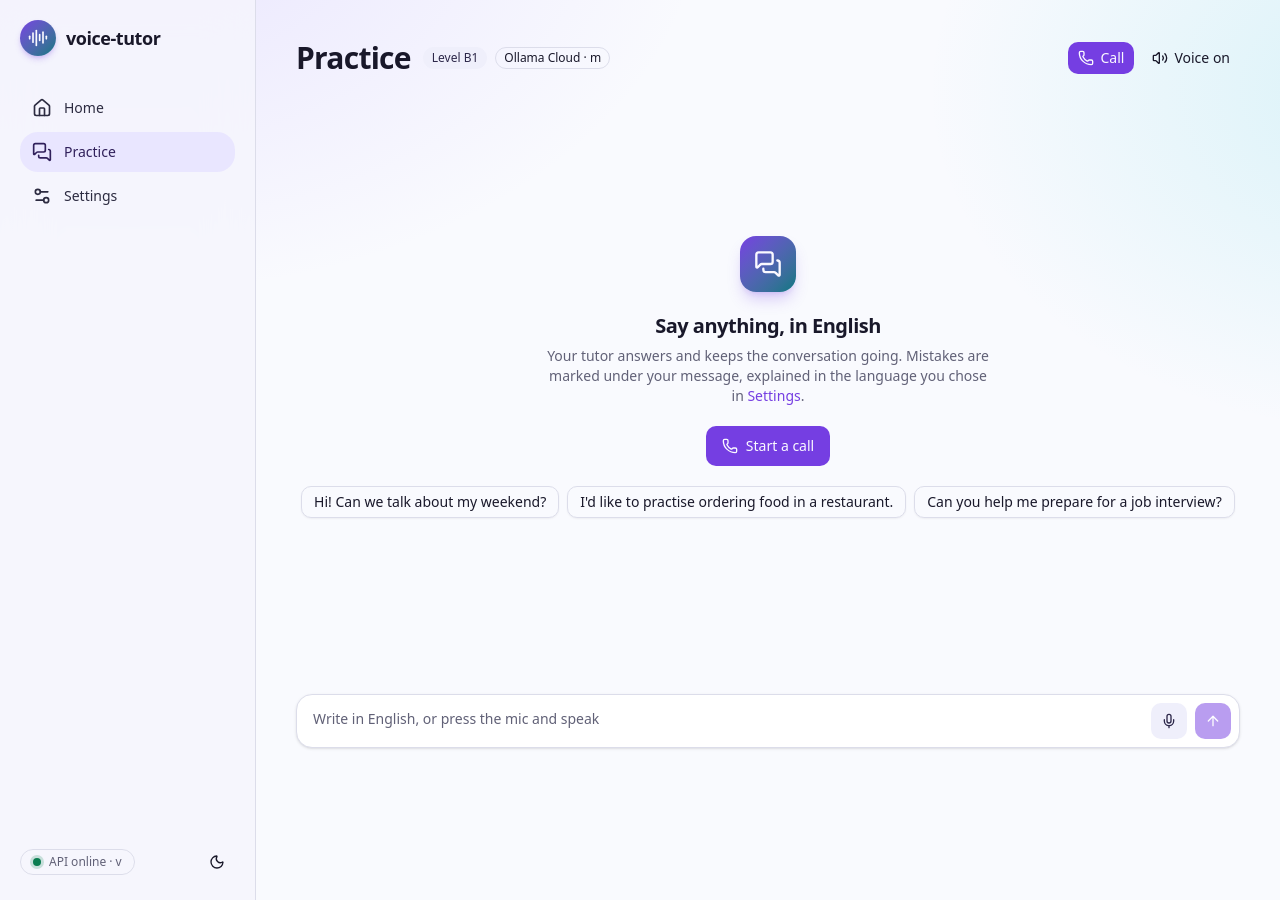
Test: Call mode › takes over the microphone from push-to-talk
The image size is (1280, 900).
Expected: the heading "Practice" is shown, left=296, top=40, right=411, bottom=76
Click the button named "Speak" at point(1169, 721), box left=1151, top=703, right=1187, bottom=739
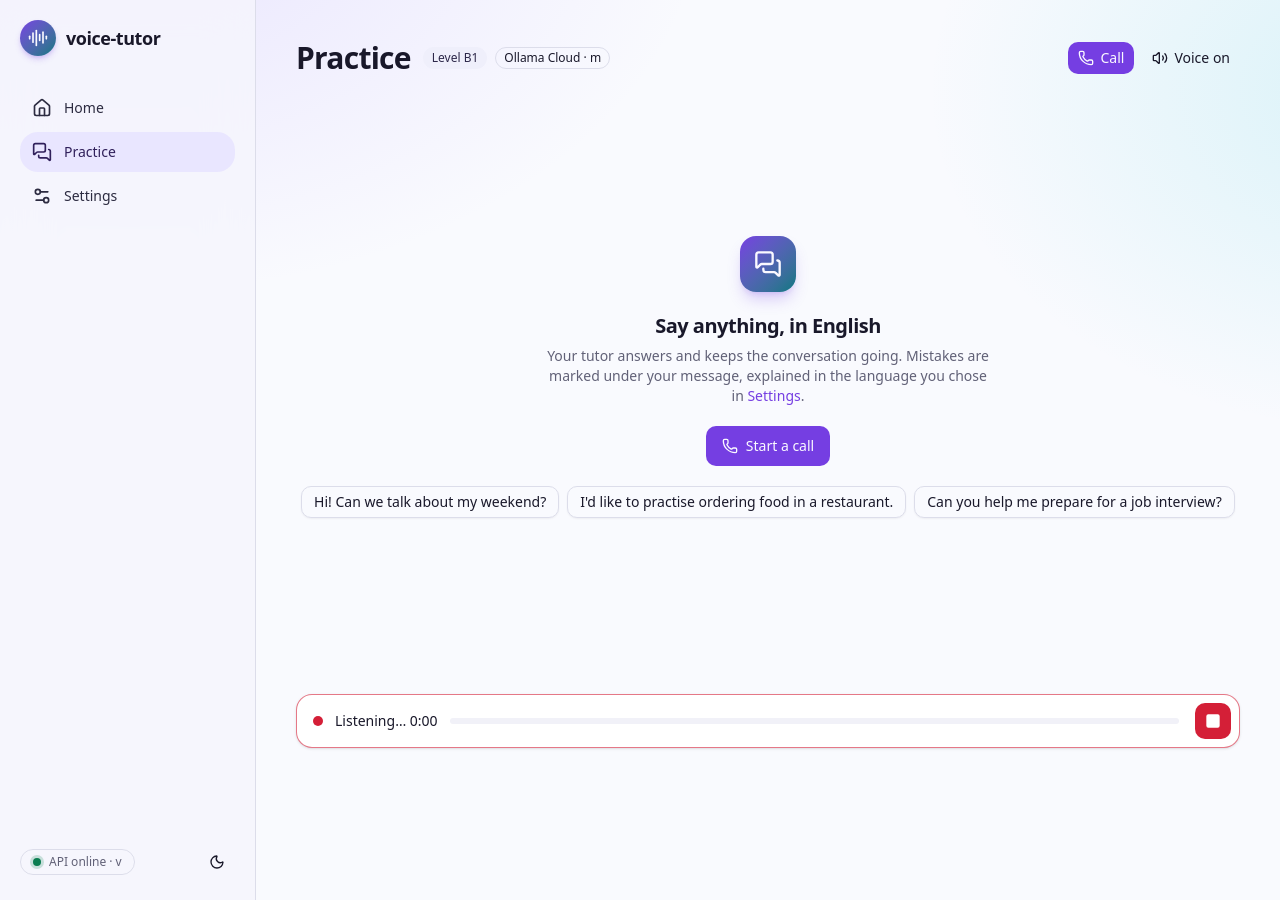
Click the button "Call" at point(1101, 58), box left=1068, top=42, right=1134, bottom=74
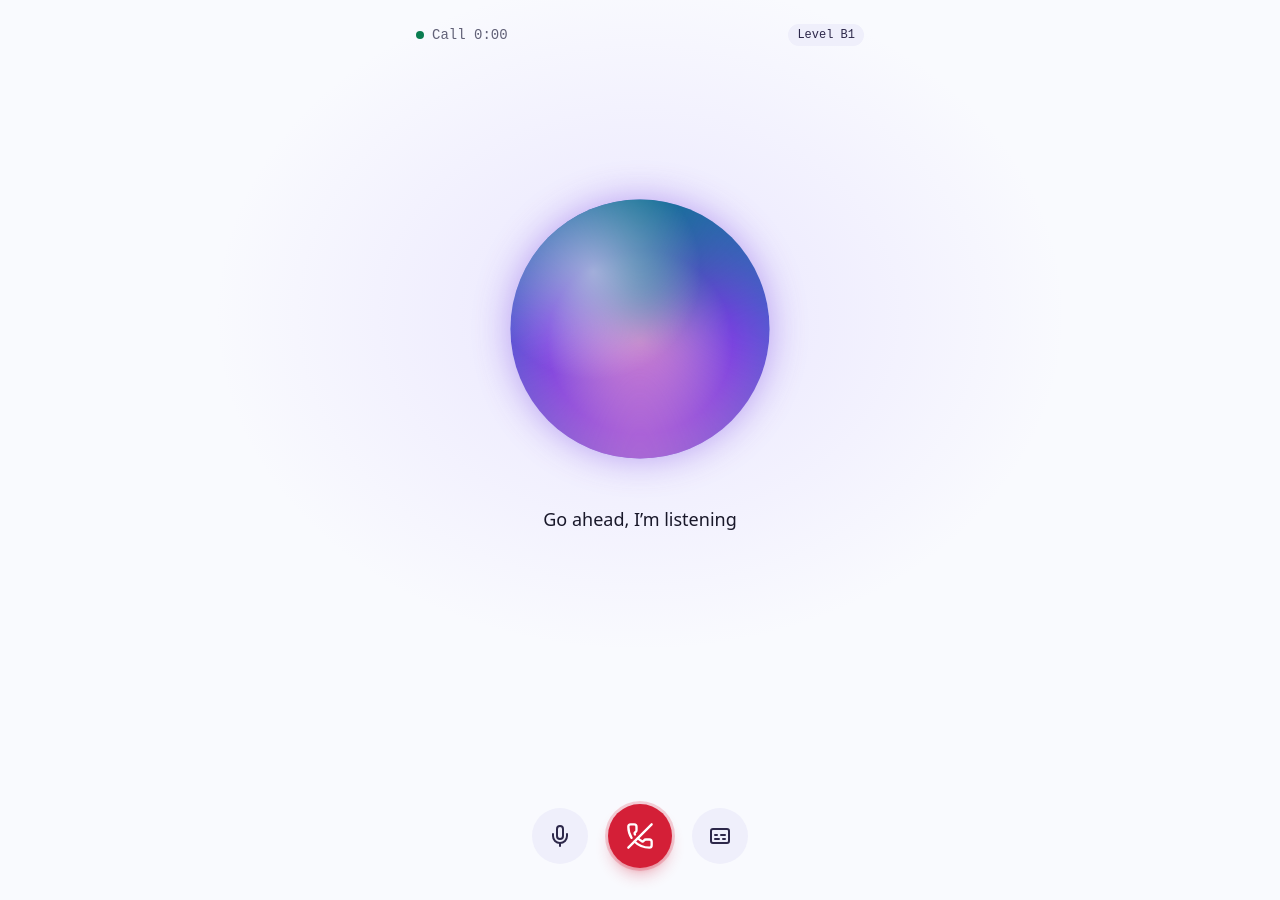
Now the dialog is shown
